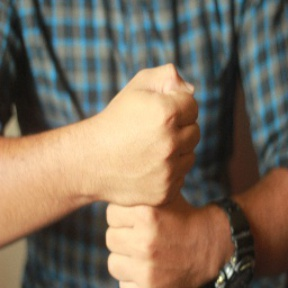G: (84, 61, 211, 288)
